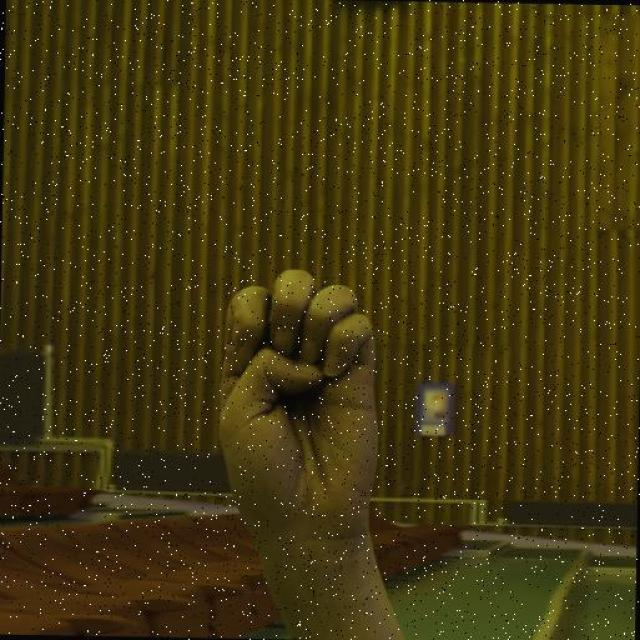E: (208, 262, 388, 544)
